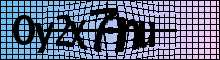0: (12, 14, 35, 46)
2: (55, 14, 71, 51)
7: (89, 7, 117, 52)
n: (116, 17, 139, 52)
u: (138, 19, 156, 48)
x: (70, 19, 88, 51)
y: (33, 21, 54, 54)
